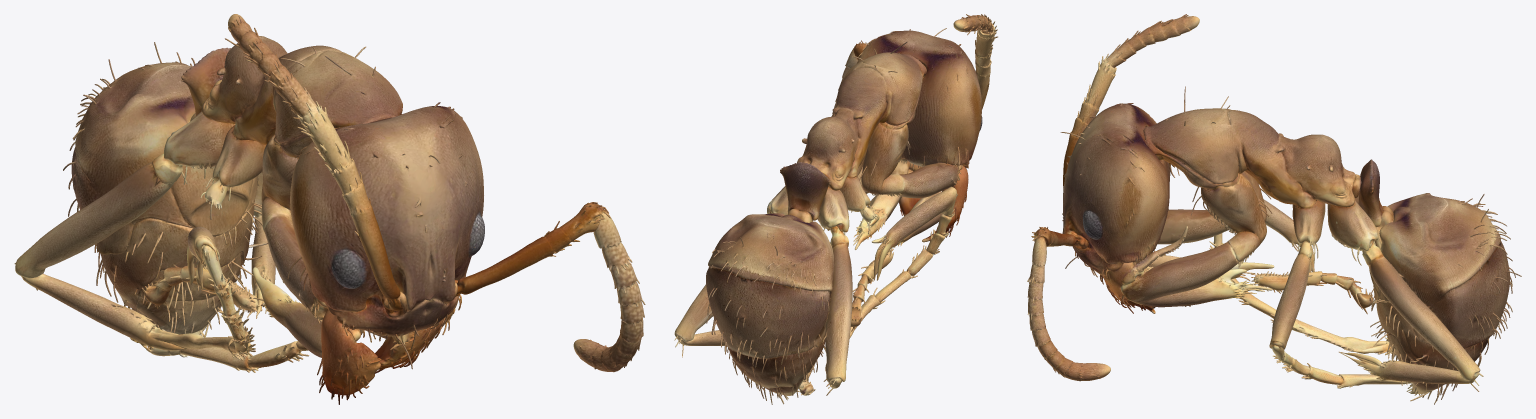
Rendered from esp4.glb.
3 views of the same model, side by side, from view 1: azimuth 30°, elevation 25°; view 2: azimuth 150°, elevation 25°; view 3: azimuth 270°, elevation 25° (orthographic). The views are drawn at different scales.
Size of the model in its own units: 1.05 by 1.5 by 1.92.
1 material, 1 textured.
